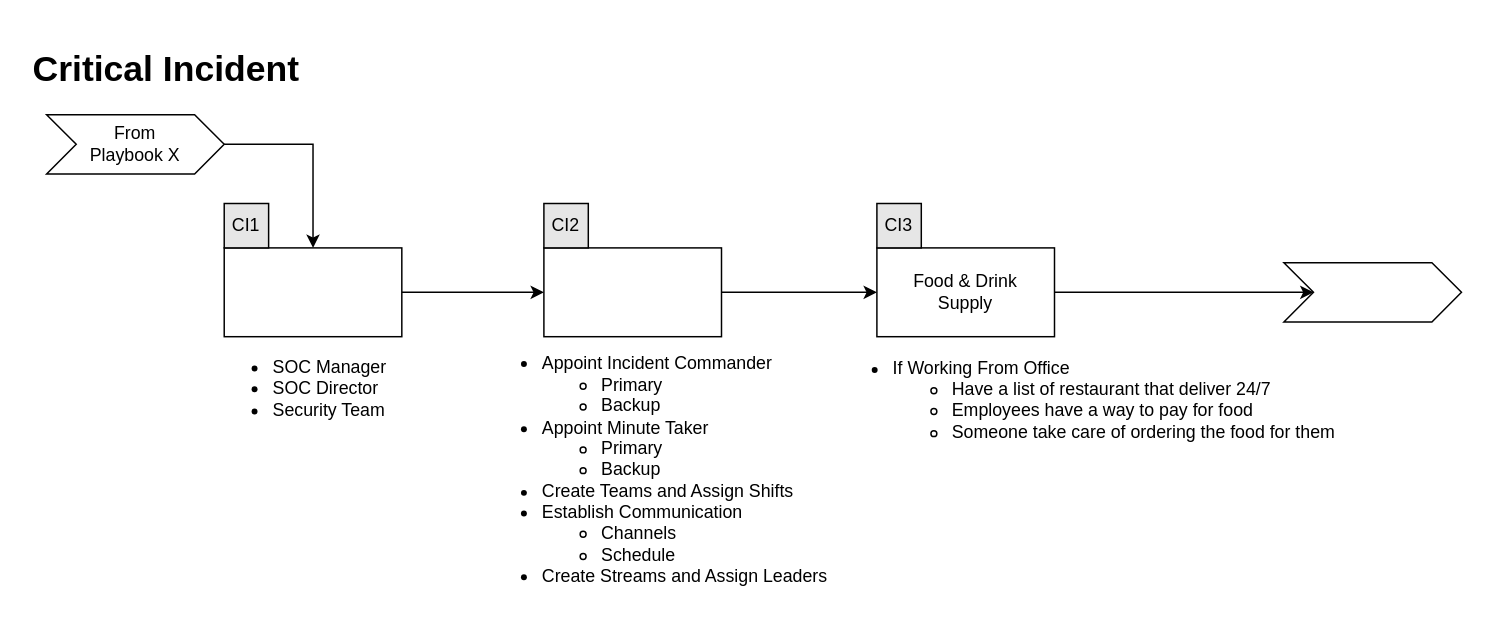
Image size: 1487x629. Some labels were removed from this diagram. The shapes that lost their labels are listed below. From the top down, each one's centre as x and y in pixels, then its label:
the point at 312,291: Escalation
the point at 632,291: Build Crisis Management Cell
the point at 1372,291: Back To Playbook X
